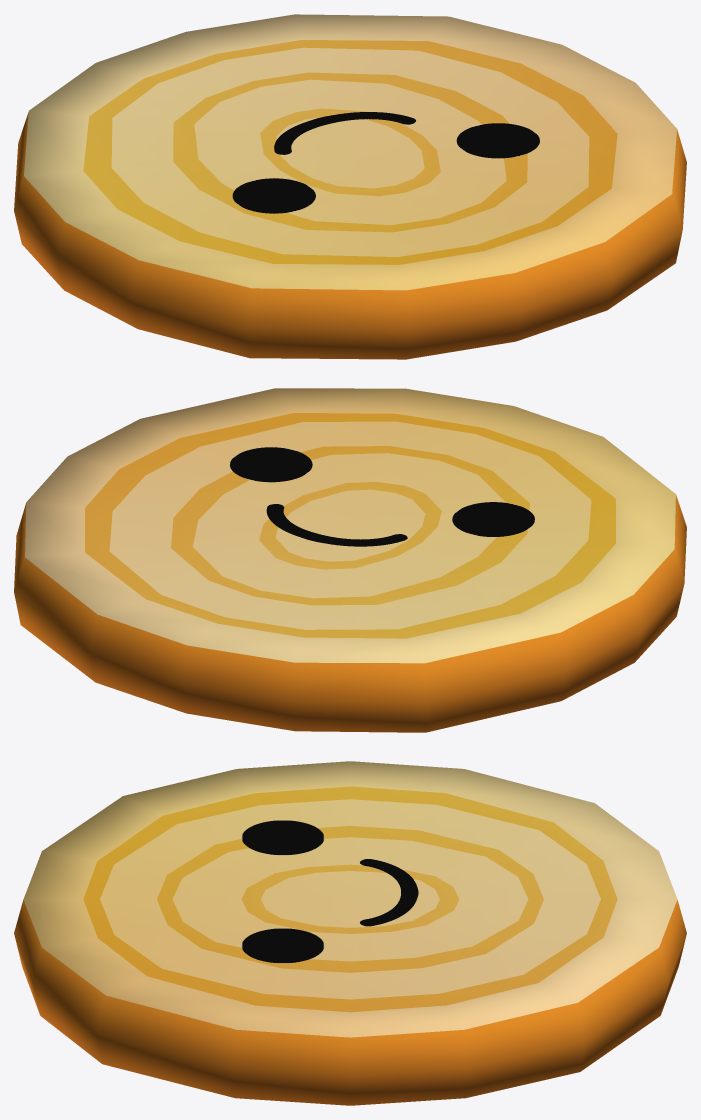
File: onion_slice_smile.fbx
3 views of the same model, one above another, from view 1: azimuth 30°, elevation 25°; view 2: azimuth 150°, elevation 25°; view 3: azimuth 270°, elevation 25° (orthographic).
Parts seen in each view (by area): view 1: onion_slice; view 2: onion_slice; view 3: onion_slice.
Part boxes in pixels (left/top/right/bottom): onion_slice: left=14, top=14, right=686, bottom=359; onion_slice: left=14, top=388, right=686, bottom=732; onion_slice: left=14, top=761, right=686, bottom=1105.
Size of the model in its own units: 16.48 by 16.48 by 2.06.
2 materials, 2 textured.
